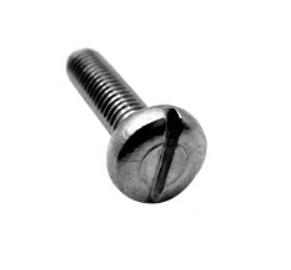slotted: (106, 103, 204, 204)
